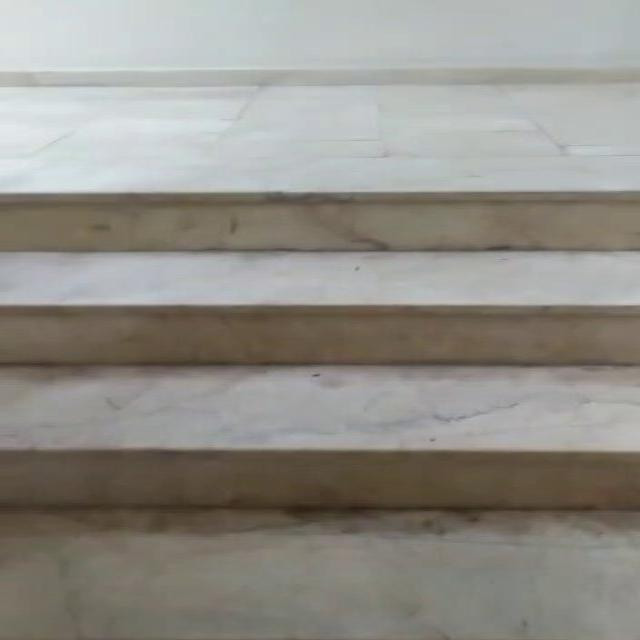stairs: (0, 64, 638, 639)
